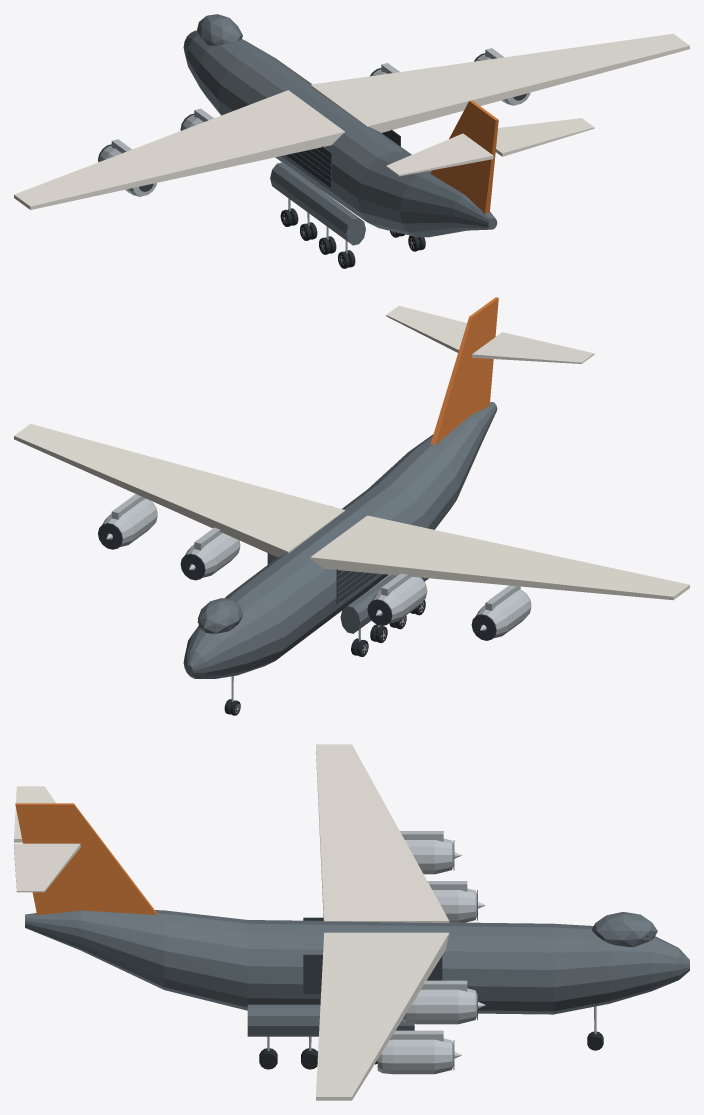
File: AIR_02.obj
3 renders of one model, top to bottom at view 1: azimuth 30°, elevation 25°; view 2: azimuth 150°, elevation 25°; view 3: azimuth 270°, elevation 25°, orthographic. The views are drawn at different scales.
Parts seen in each view (by area): view 1: wings, fuselage, stabilizers, tail_fin, gear_pods, gear_main_L, cargo_door, cockpit_hump, pylons, engine_L1; view 2: wings, fuselage, tail_fin, stabilizers, pylons, engine_L1, engine_R1, engine_L0, cockpit_hump, engine_R0, gear_pods, cargo_door (+1 smaller); view 3: fuselage, wings, tail_fin, stabilizers, gear_pods, engine_R1, engine_R0, pylons, cockpit_hump, engine_L1, engine_L0, cargo_door (+1 smaller).
Part boxes in pixels (box(x1,y1,x2,y2)): wings: box(14, 33, 689, 209); fuselage: box(183, 30, 497, 237); stabilizers: box(386, 118, 594, 176); tail_fin: box(430, 100, 498, 213); gear_pods: box(270, 162, 365, 245); gear_main_L: box(280, 198, 355, 268); cargo_door: box(285, 129, 400, 188); cockpit_hump: box(197, 14, 242, 45); pylons: box(111, 48, 504, 153); engine_L1: box(99, 145, 156, 196); wings: box(14, 424, 689, 600); fuselage: box(183, 402, 497, 678); tail_fin: box(430, 297, 498, 445); stabilizers: box(386, 305, 594, 363); pylons: box(111, 494, 520, 610); engine_L1: box(476, 589, 531, 638); engine_R1: box(102, 498, 157, 547); engine_L0: box(372, 576, 427, 623); cockpit_hump: box(198, 598, 242, 633); engine_R0: box(185, 533, 240, 577); gear_pods: box(340, 575, 428, 633); cargo_door: box(267, 506, 379, 604); fuselage: box(25, 910, 689, 1014); wings: box(316, 744, 449, 1100); tail_fin: box(15, 803, 156, 915); stabilizers: box(14, 786, 80, 892); gear_pods: box(247, 1004, 414, 1036); engine_R1: box(375, 1038, 453, 1074); engine_R0: box(402, 988, 477, 1024); pylons: box(390, 831, 467, 1041); cockpit_hump: box(592, 912, 657, 947); engine_L1: box(405, 838, 453, 874); engine_L0: box(432, 888, 477, 922); cargo_door: box(303, 917, 442, 993).
Bounding box in the file's own units: 60 × 19.4 × 48.6.
